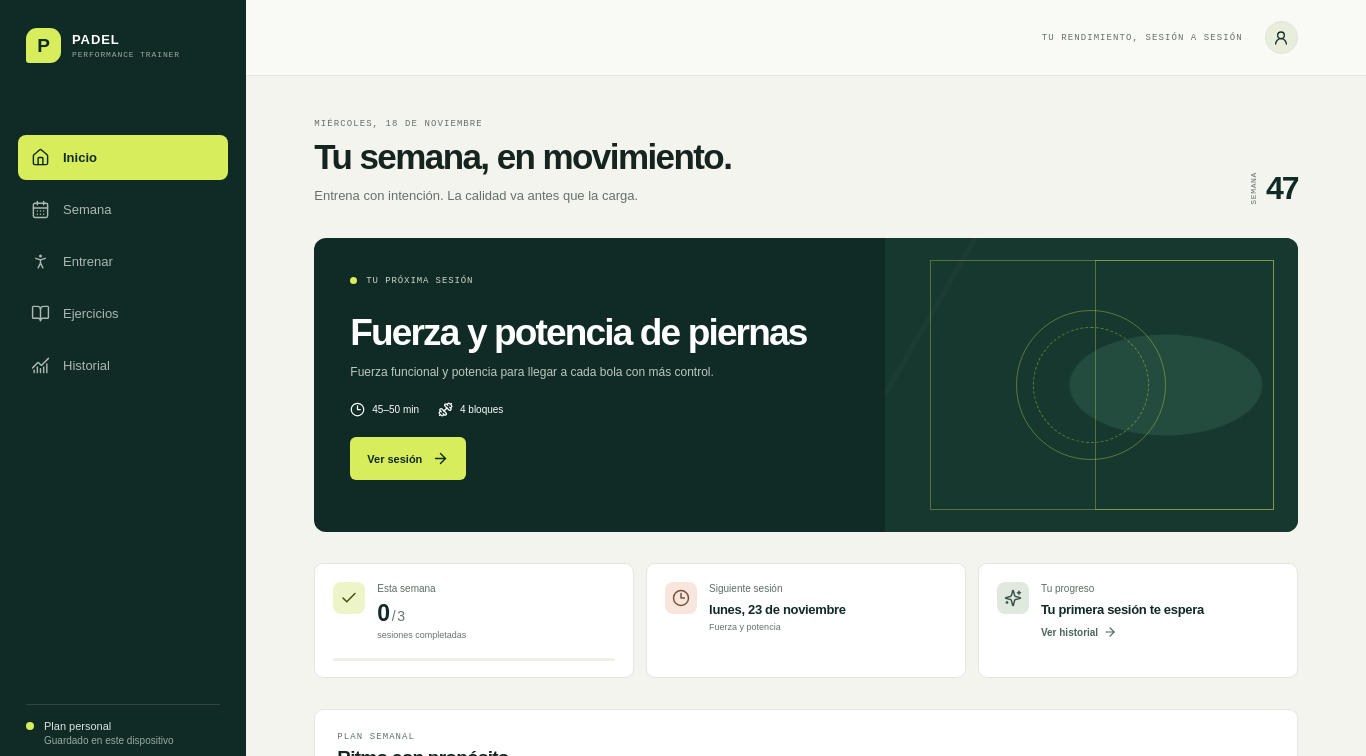
Test case: training flow › saves completed sets, resumes them, and adds a finished workout to history
The width and height of the screenshot is (1366, 756).
Later steps or results of the test are not shown.
What coordinates should you click on to do the following:
click the button "Entrenar"
I would click on:
 (123, 262)
Its box is [18,239,228,284].
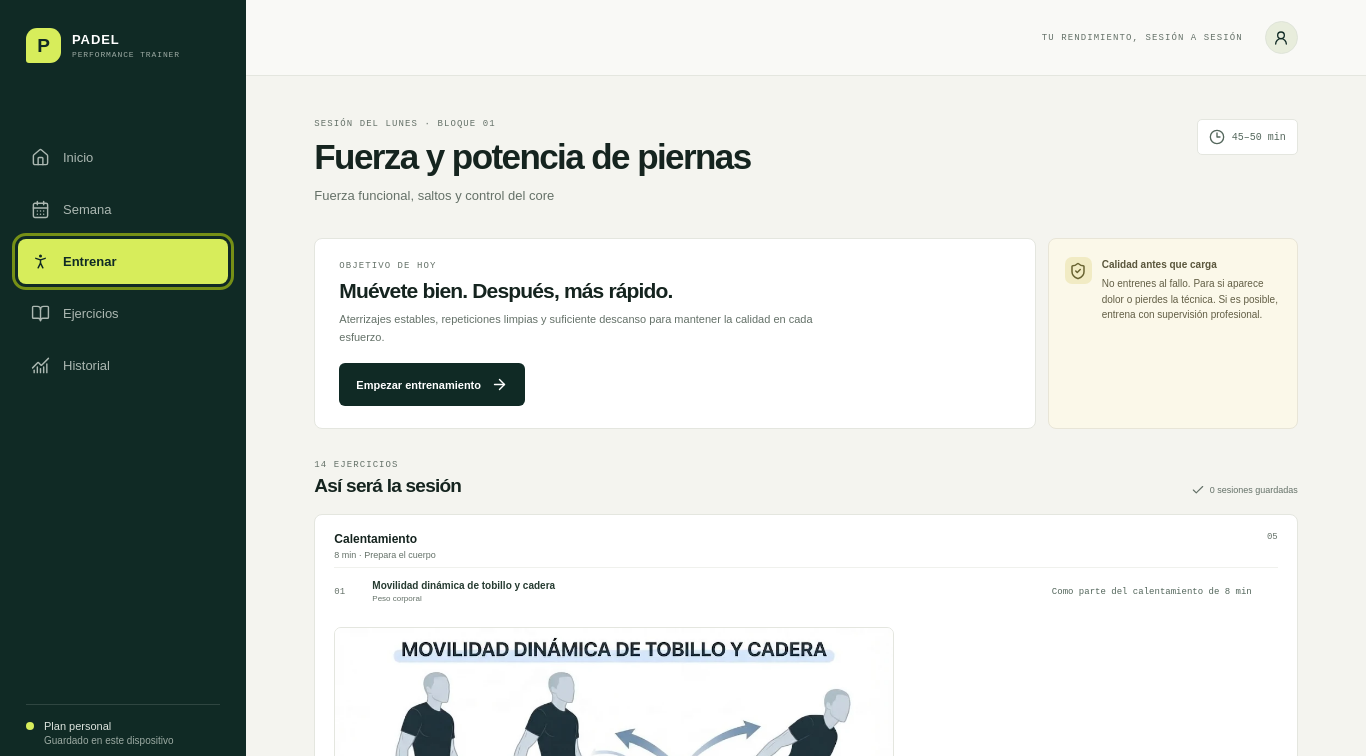
Expected: the number of pictures is 14
What coordinates should you click on to do the following:
click the button "Empezar entrenamiento"
I would click on:
 (432, 385)
Its box is [339,363,525,406].
(page scrolled)
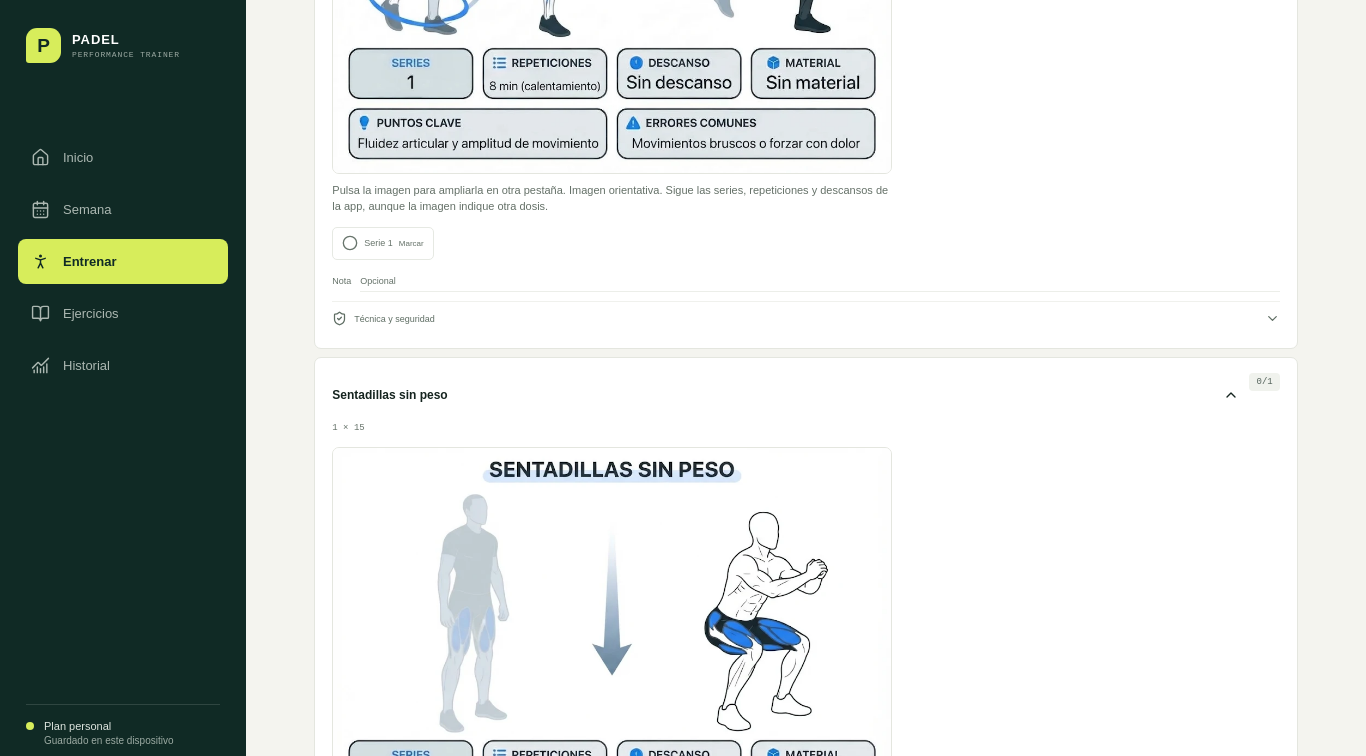
Expected: the number of pictures is 14
What coordinates should you click on to do the following:
click the button "Serie 1 Marcar"
I would click on:
 (383, 243)
Its box is [332,227,434,260].
(page scrolled)
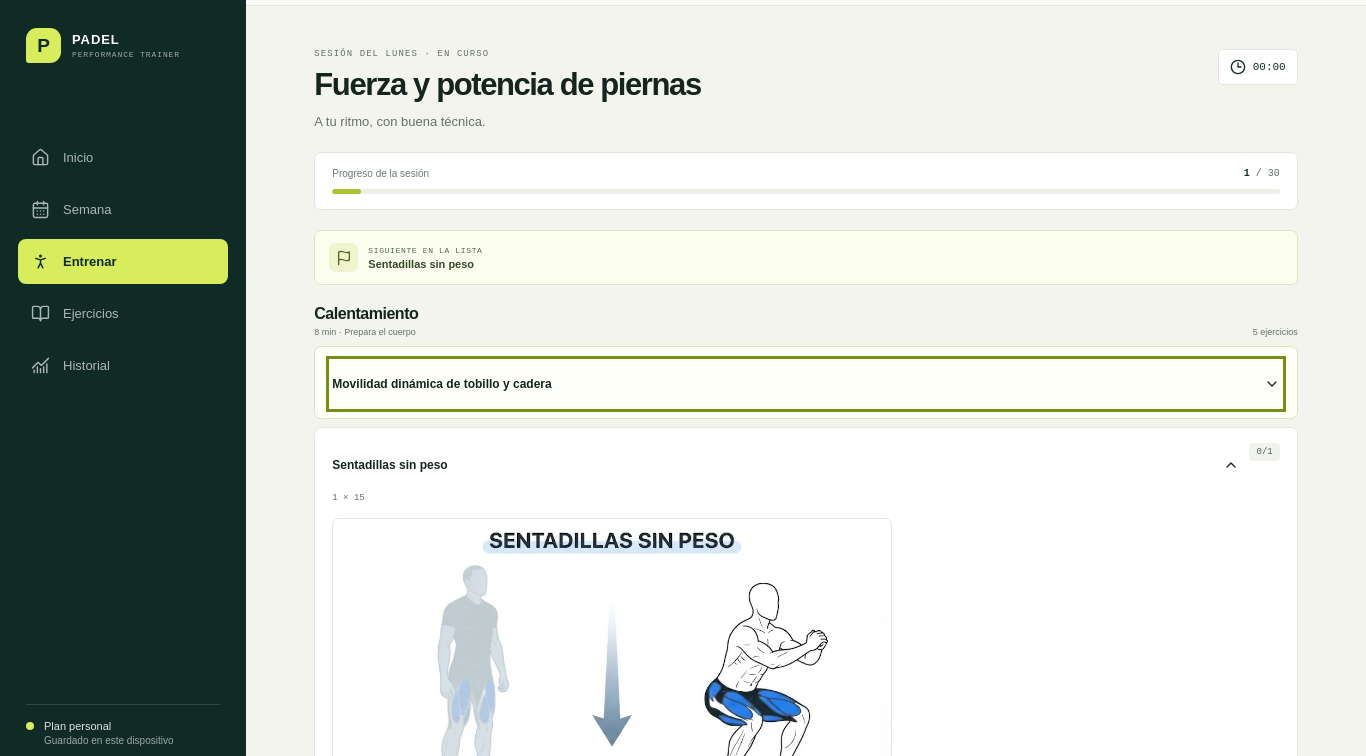
What coordinates should you click on to do the following:
click the button "Ejercicios"
I would click on:
 (123, 314)
Its box is [18,291,228,336].
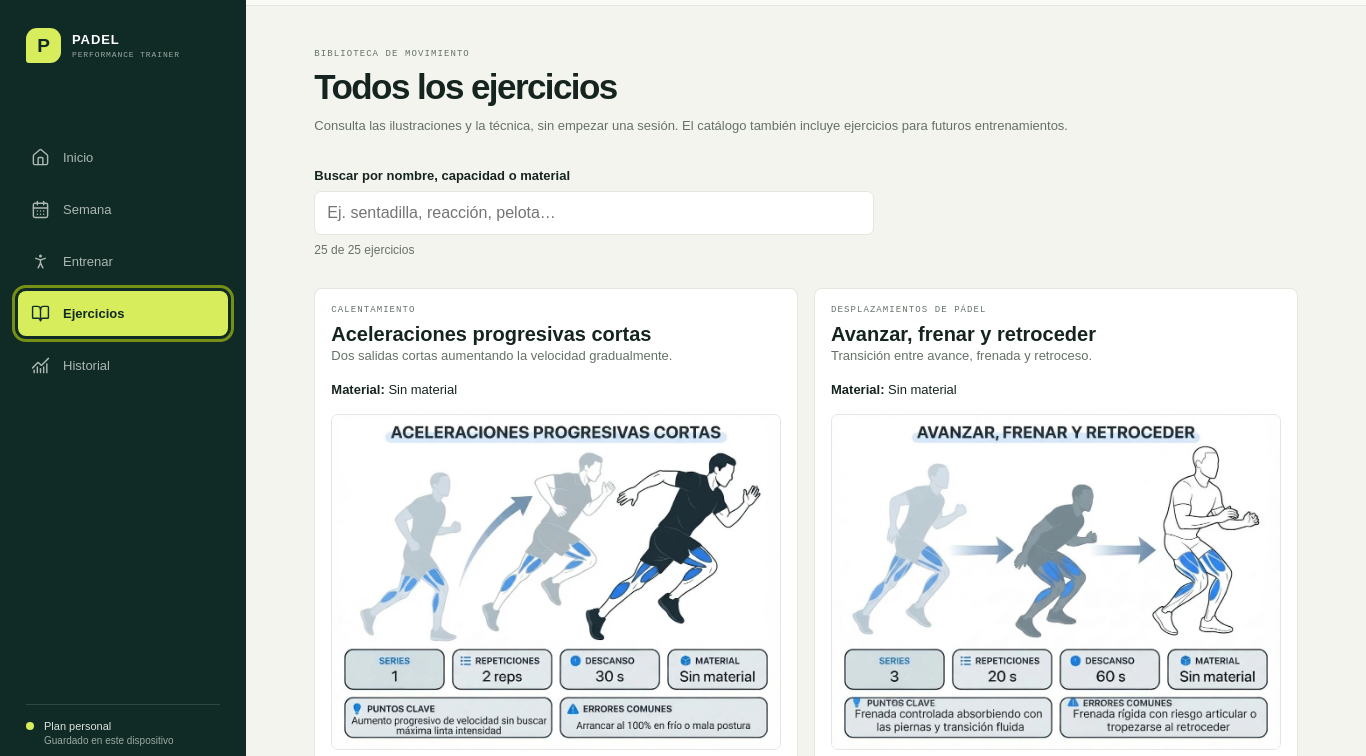
Expected: the heading "Todos los ejercicios" is shown, [314,67,617,106]
Expected: the number of pictures is 25
What coordinates should you click on to do the following:
click the button "Entrenar"
I would click on:
 (123, 262)
Its box is [18,239,228,284].
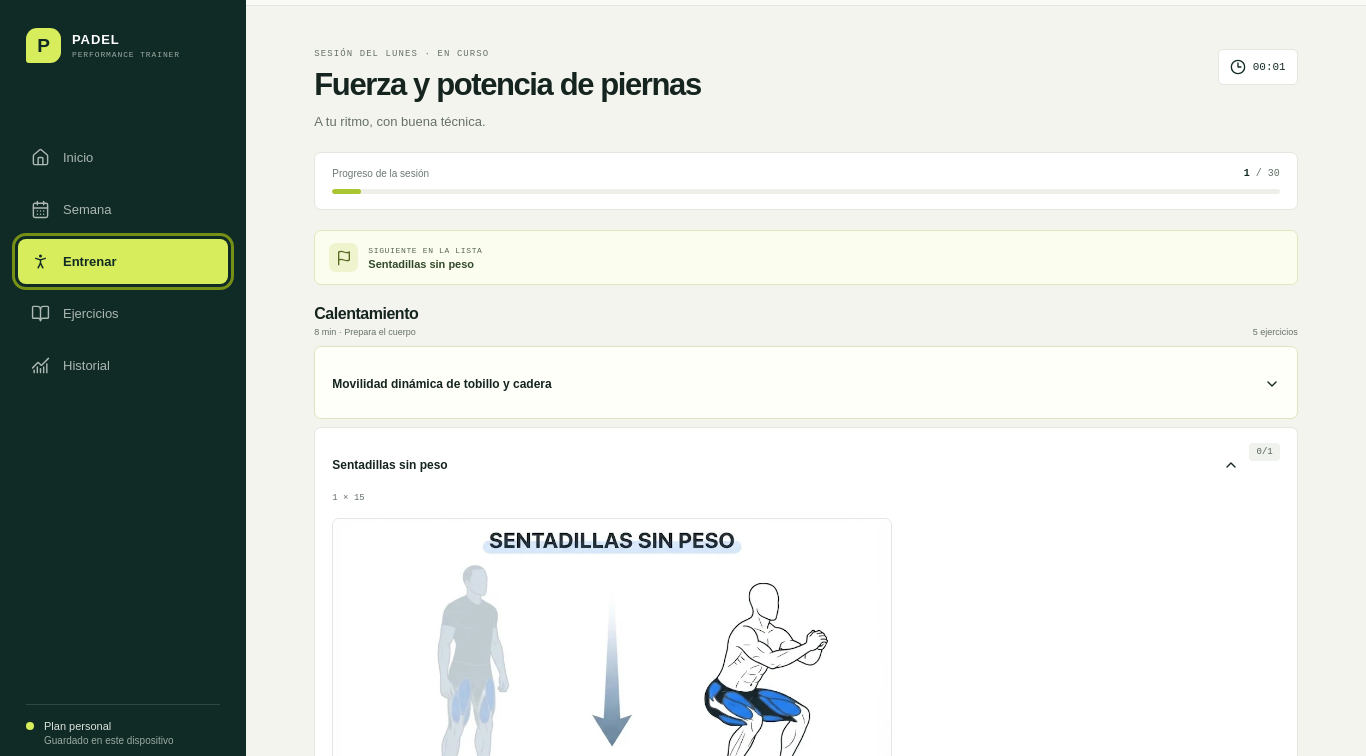
Expected: the button "Movilidad dinámica de tobillo y cadera" is collapsed
What coordinates should you click on to do the following:
click the button "Movilidad dinámica de tobillo y cadera"
I would click on:
 (442, 384)
Its box is [332,362,1280,406].
(page scrolled)
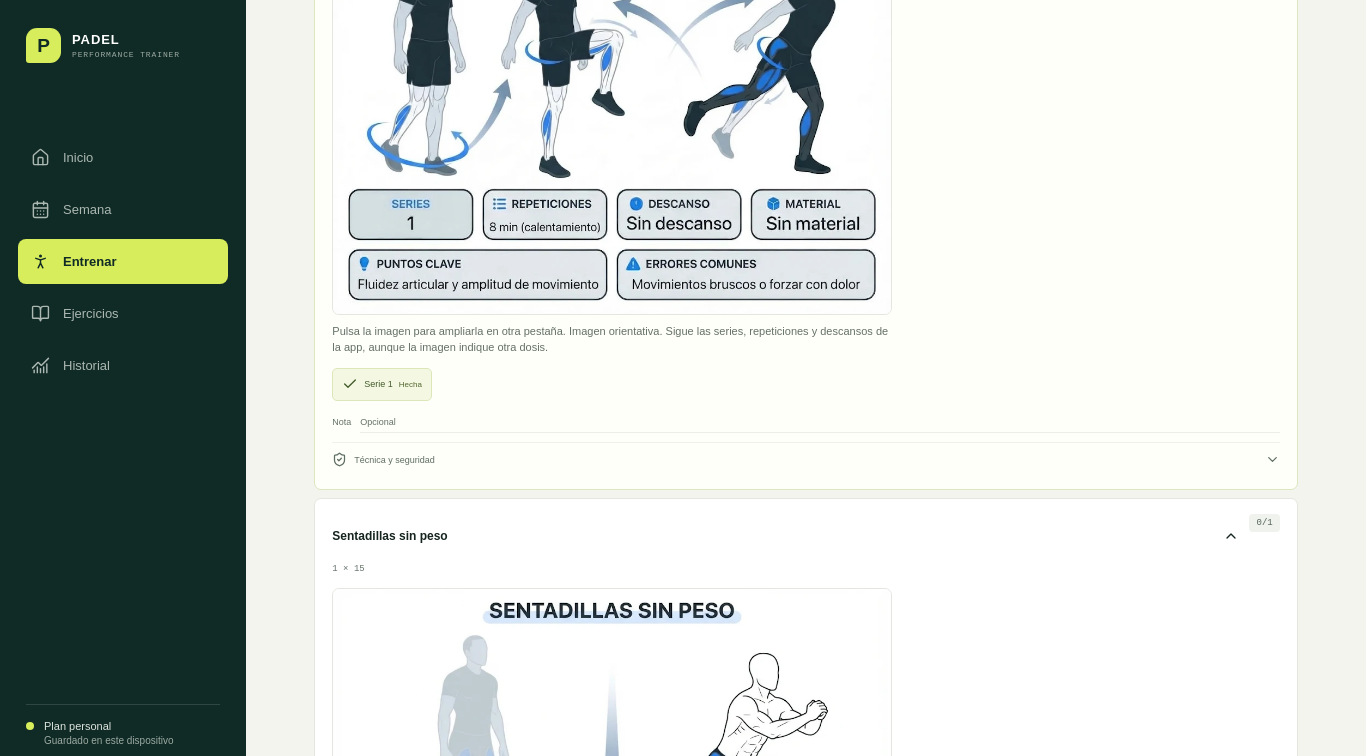
Expected: the button "Serie 1 Hecha" is pressed, [332,368,432,401]
